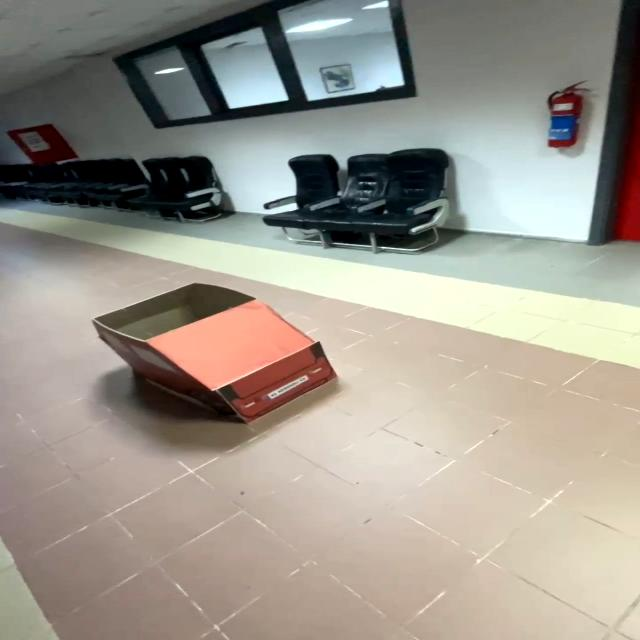red_car: (57, 274, 358, 439)
